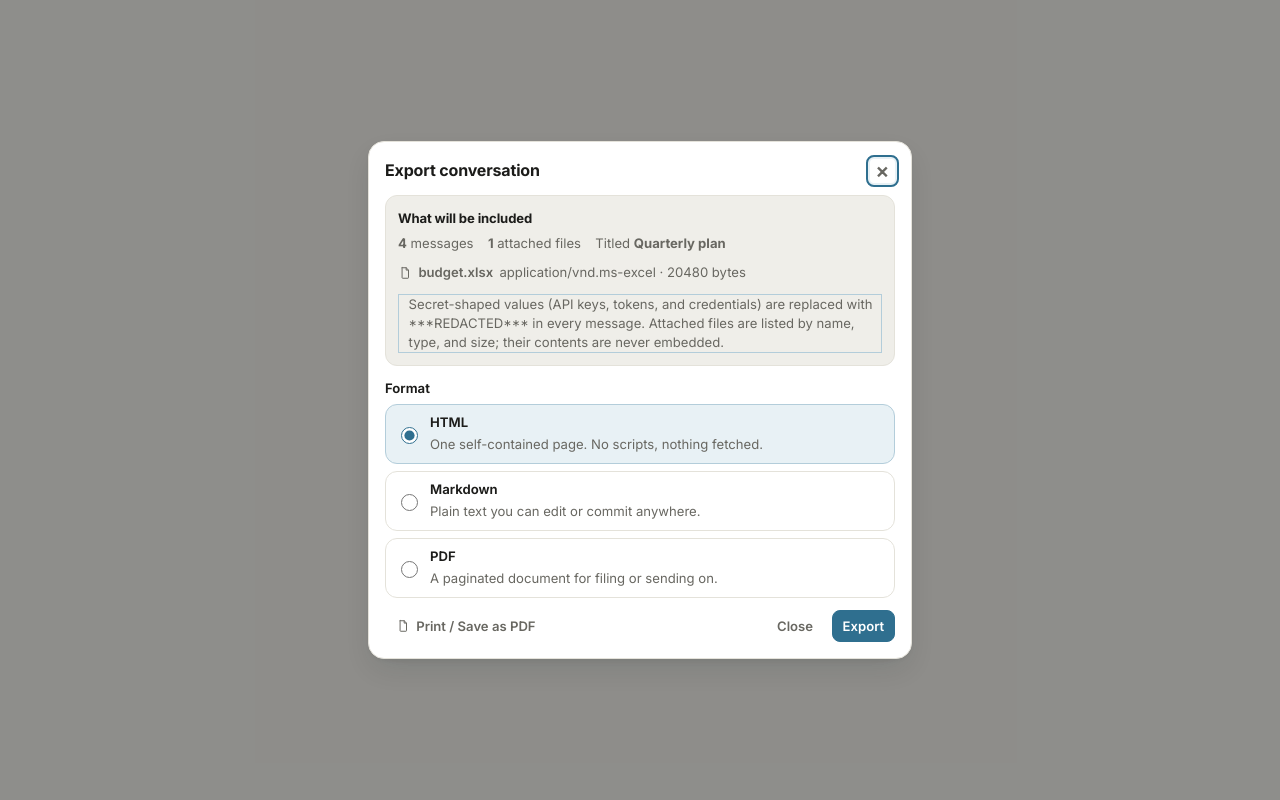
Scenario: ExportConversationDialog — BUG-22 › posts the chosen format and reports success with the download name
The width and height of the screenshot is (1280, 800).
Check: the heading "What will be included" is shown, box [398,210,532,226]
Click the radio button labelled "Markdown Plain text you can edit or commit anywhere." at (410, 502), box [401,494,418,511]
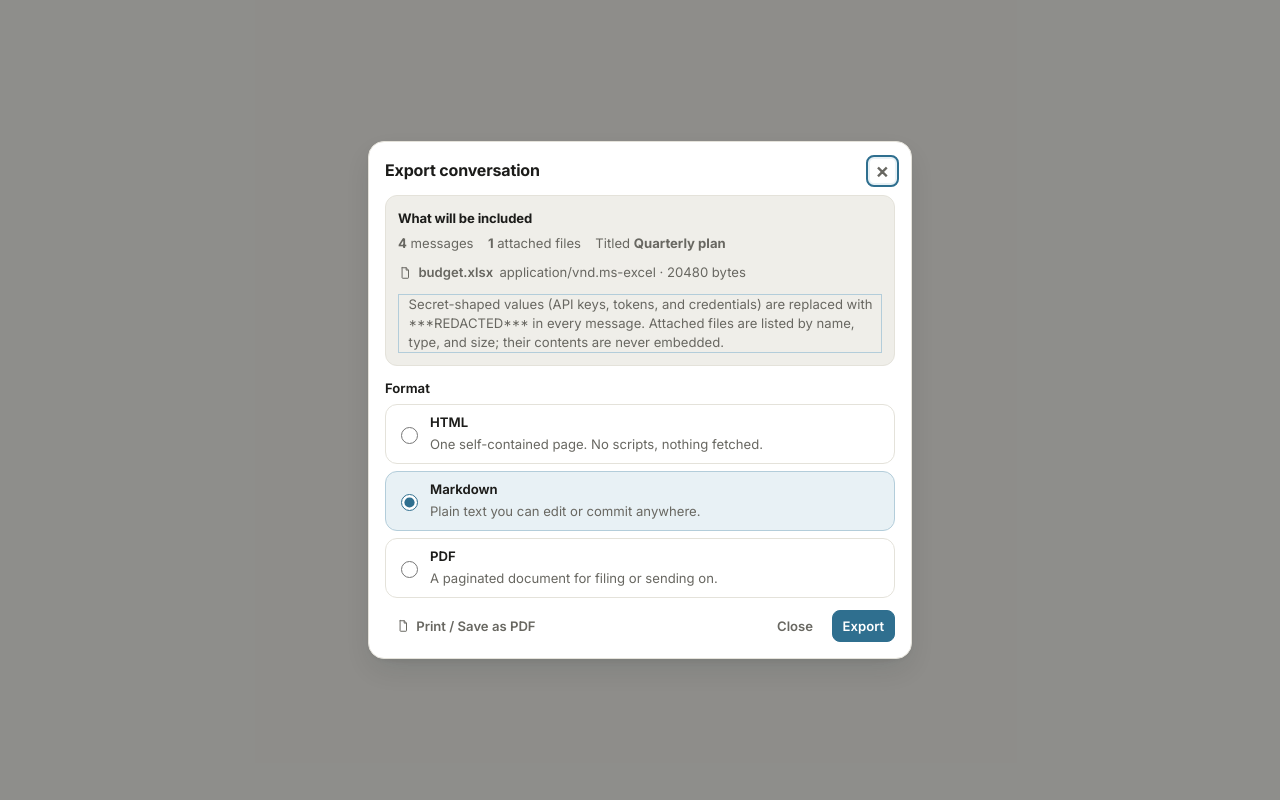
Click the button "Export" at (863, 626), box [832,610,895,642]
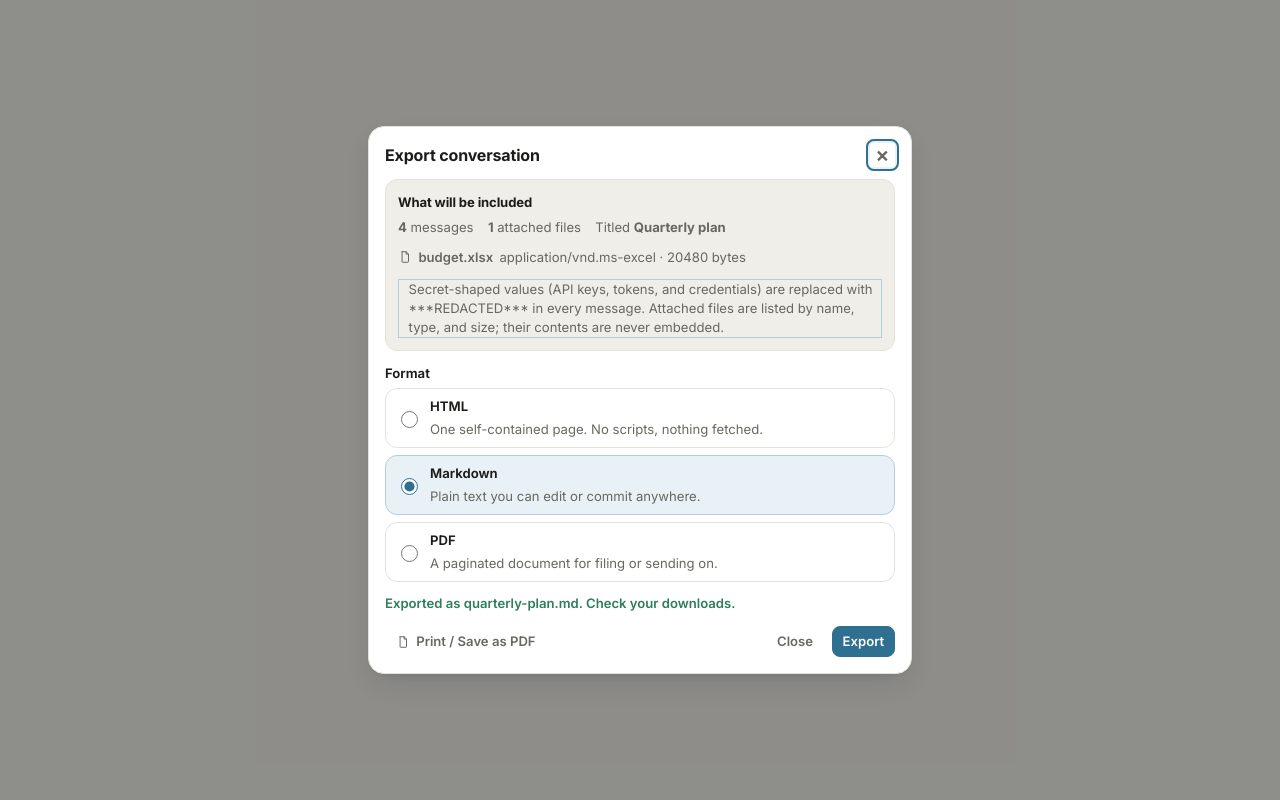
Check: the text "Exported as quarterly-plan.md. Check your downloads." is shown, box [385,595,735,611]
